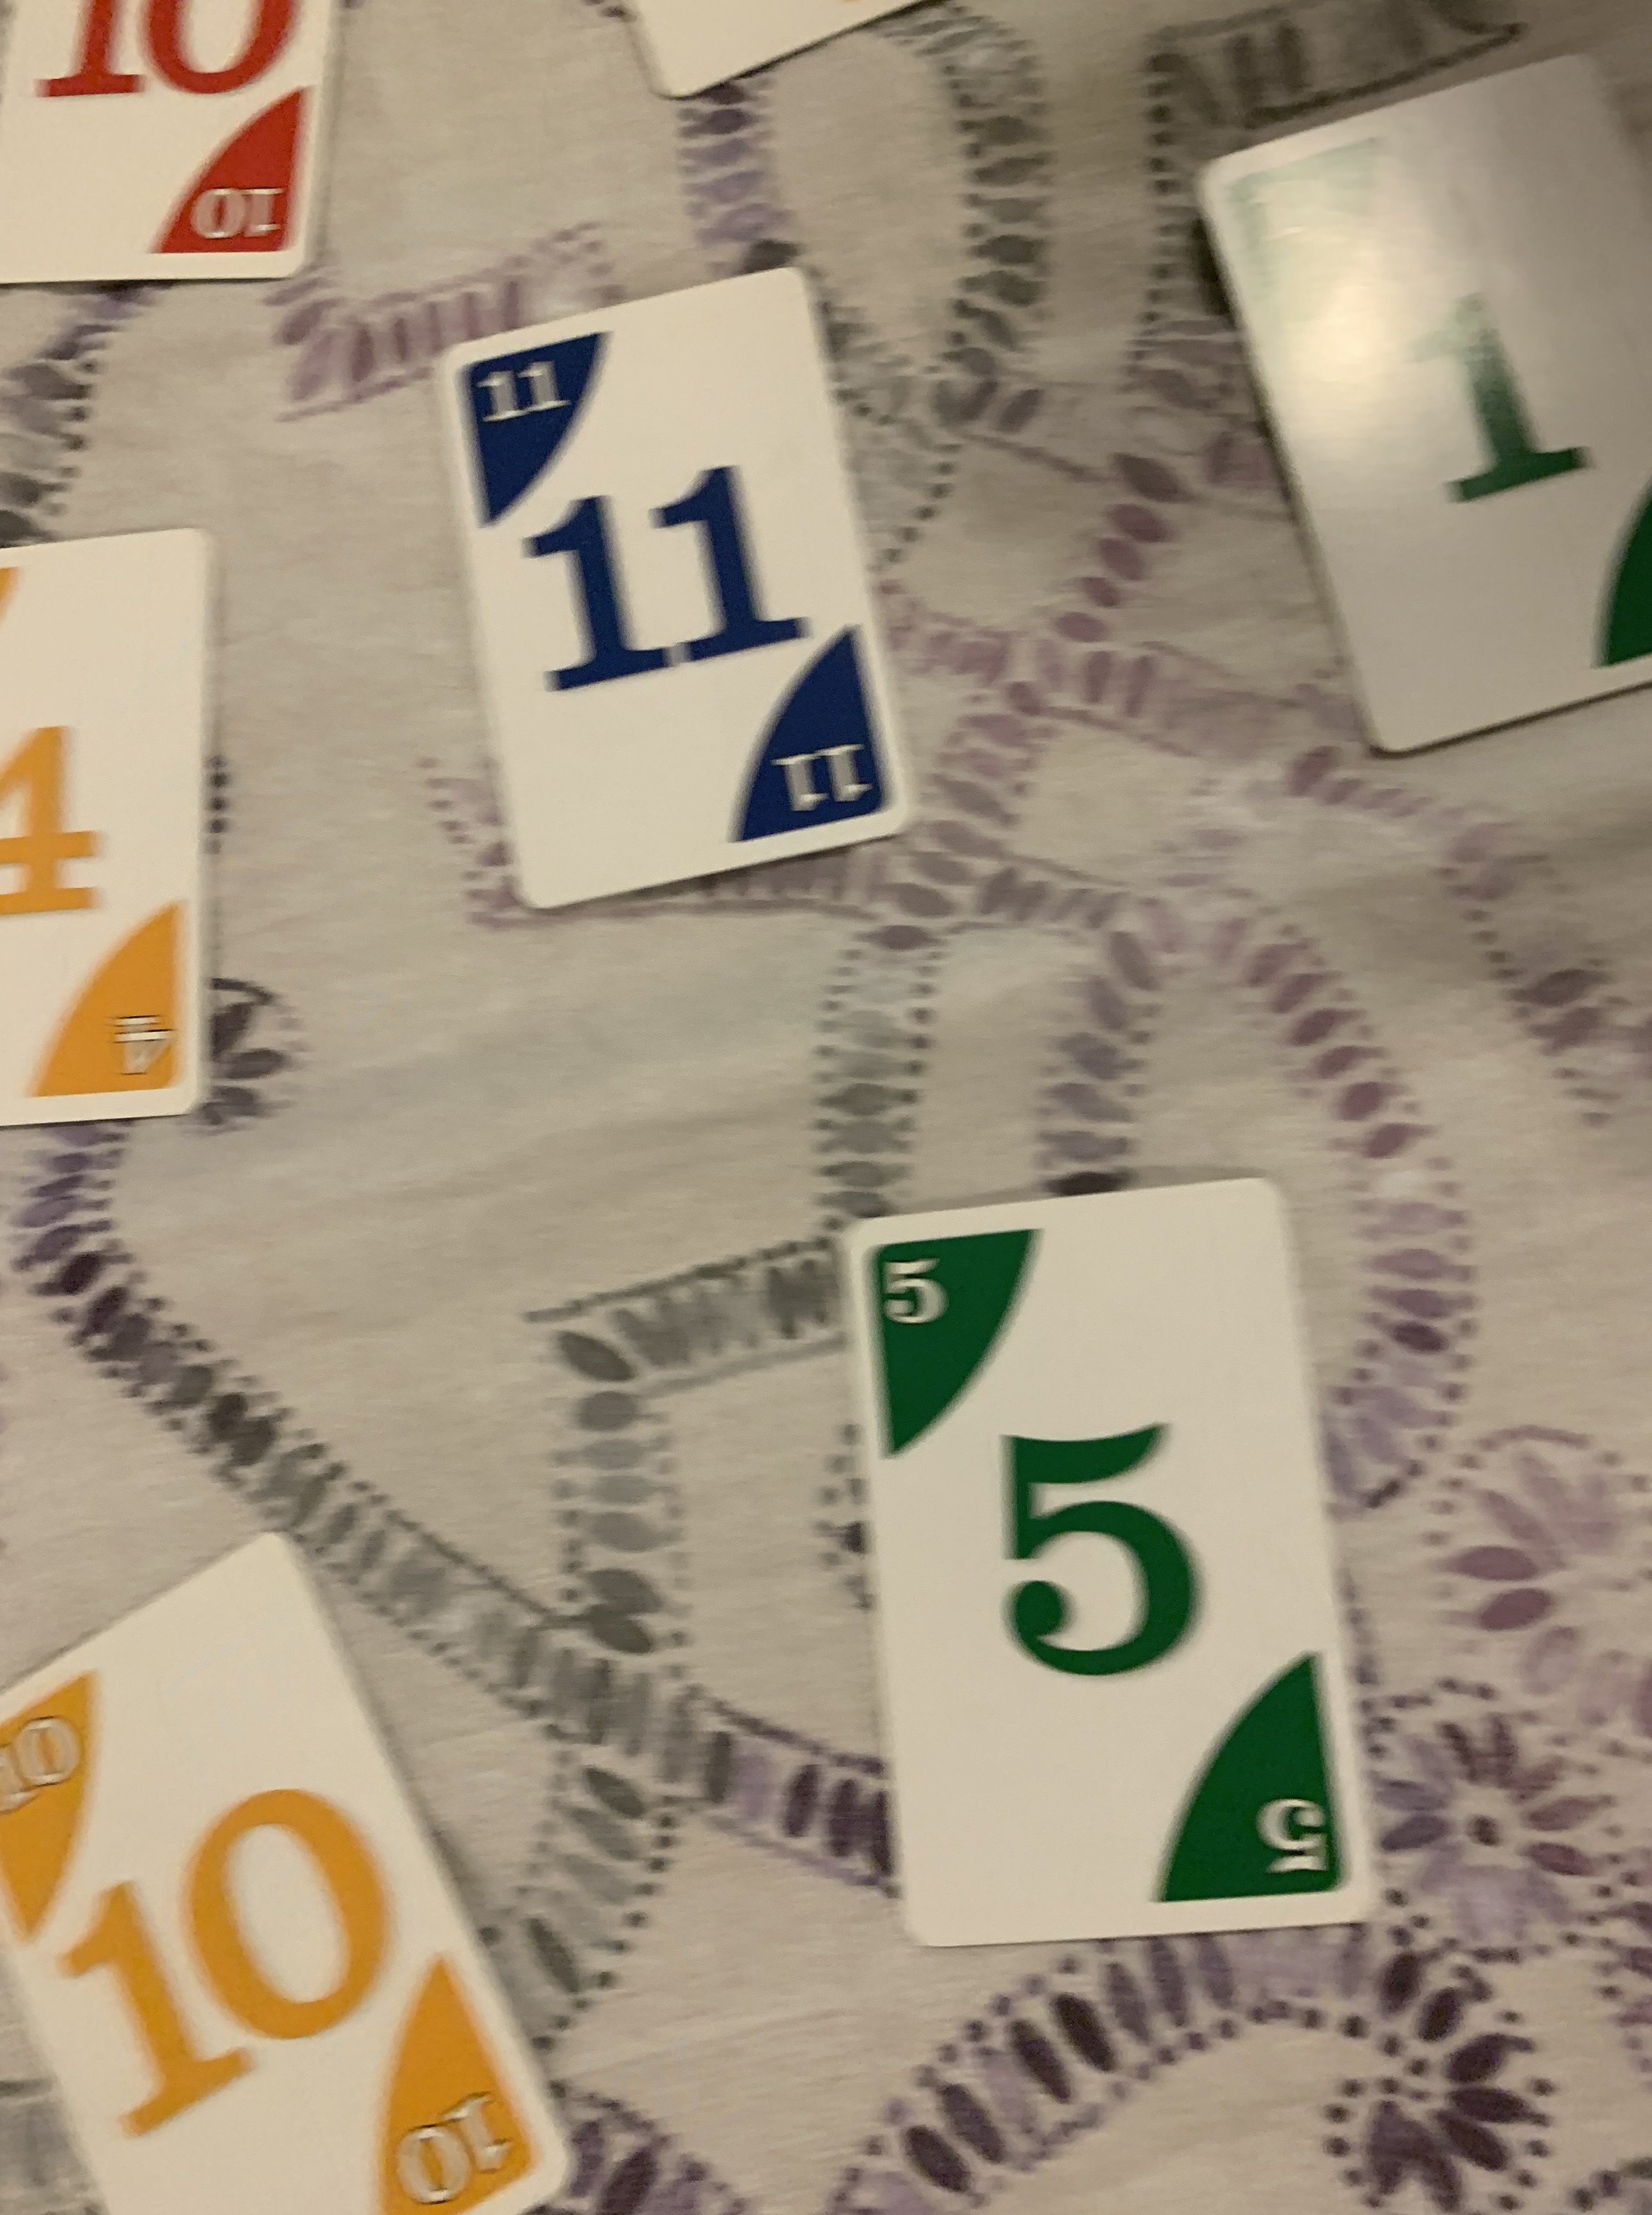eleven: (422, 253, 920, 920)
five: (835, 1173, 1393, 1956)
one: (1189, 42, 1652, 760)
ten: (0, 1498, 587, 2215)
